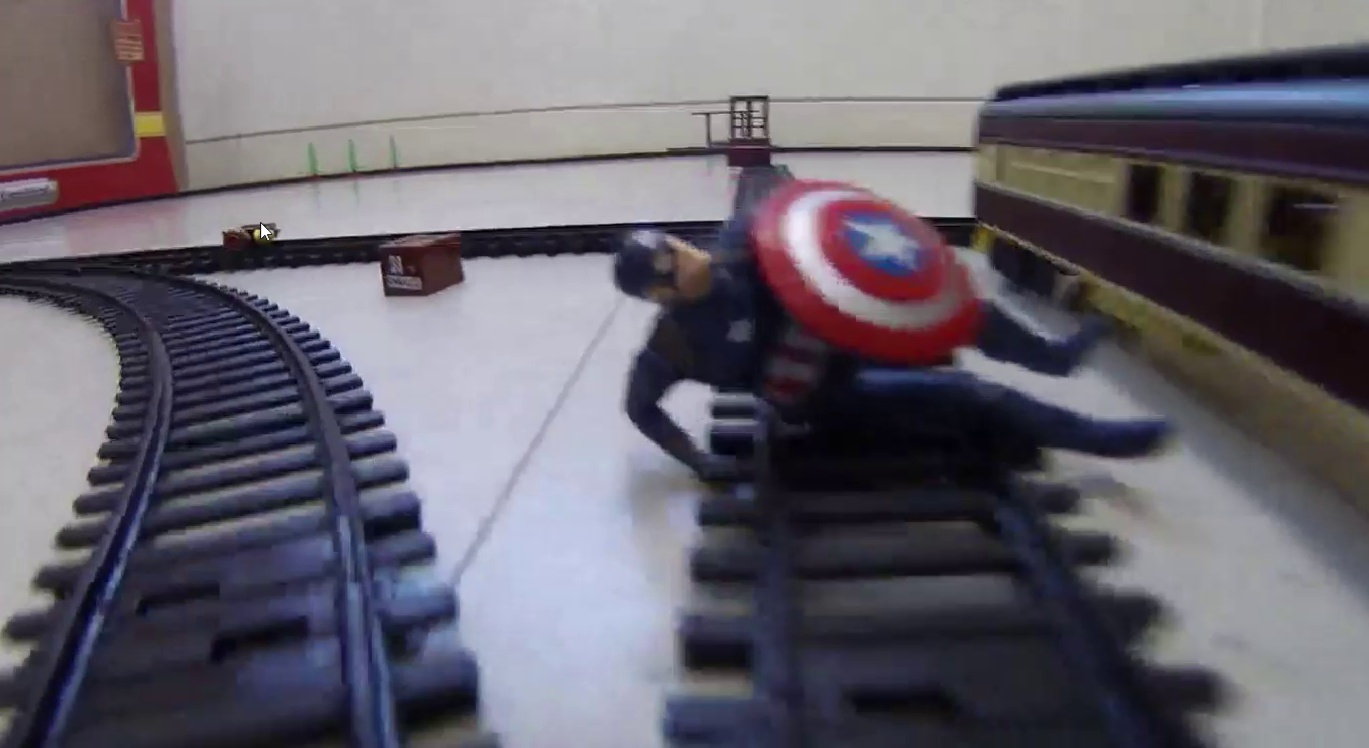box: (384, 232, 464, 300)
people: (627, 172, 1178, 463)
